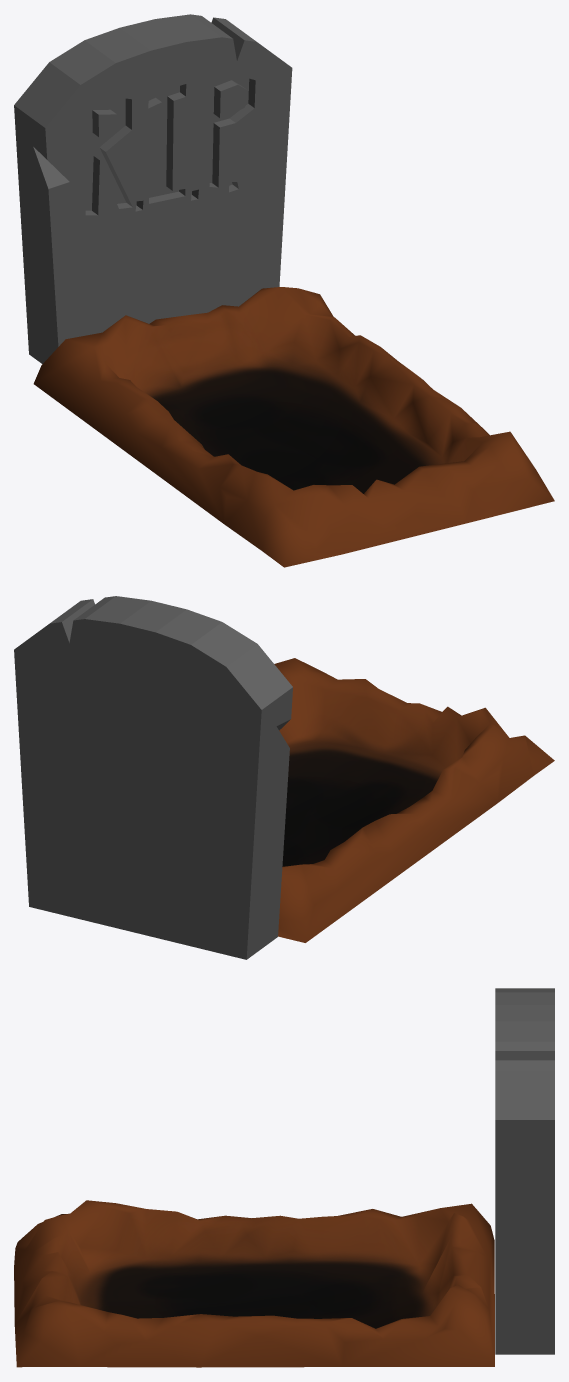
The model's file is grave.fbx.
3 renders of one model, top to bottom at view 1: azimuth 30°, elevation 25°; view 2: azimuth 150°, elevation 25°; view 3: azimuth 270°, elevation 25°, orthographic. The views are drawn at different scales.
Parts seen in each view (by area): view 1: MoundLowPoly, Cube.001; view 2: Cube.001, MoundLowPoly; view 3: MoundLowPoly, Cube.001.
Boxes of the visible parts, box(x1,y1,x2,y2) form: MoundLowPoly: box(33, 287, 554, 567); Cube.001: box(14, 14, 292, 363); Cube.001: box(14, 596, 292, 959); MoundLowPoly: box(274, 658, 554, 942); MoundLowPoly: box(14, 1200, 494, 1367); Cube.001: box(495, 988, 554, 1354).
Bounding box in the file's own units: 252 × 272 × 452.
